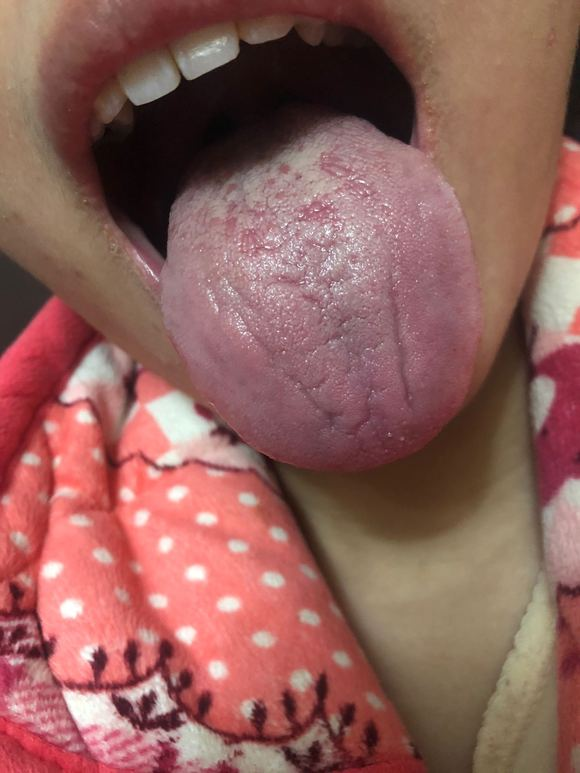baitaishe: (159, 93, 482, 473)
hongdianshe: (273, 157, 293, 178)
